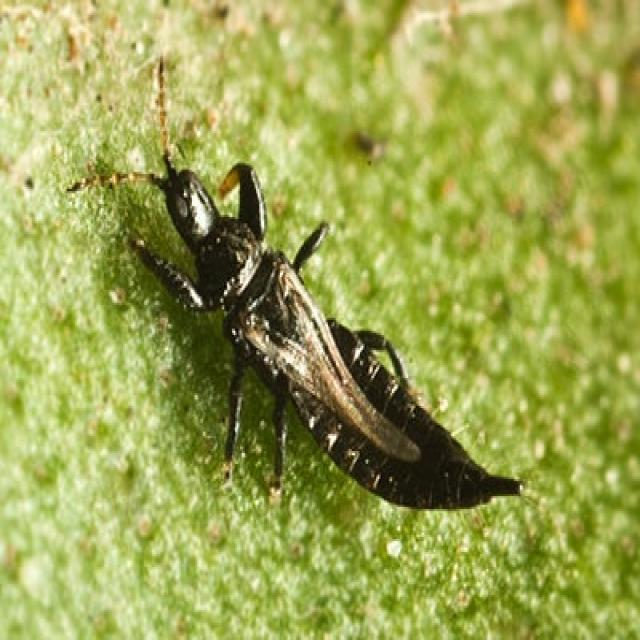Thrip-Adult-: (91, 95, 555, 538)
